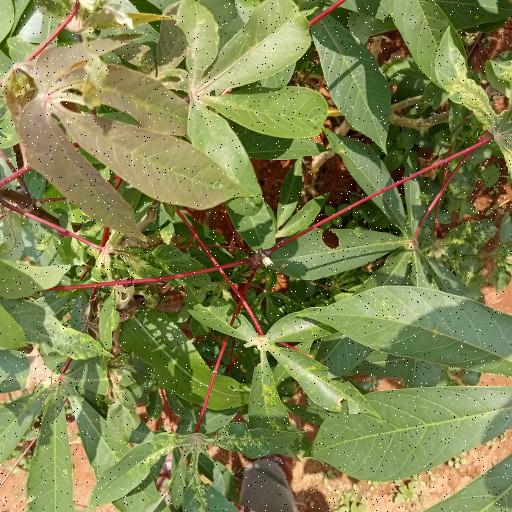Cassava_Healthy: (20, 45, 240, 255), (163, 0, 328, 214), (0, 314, 161, 512)
